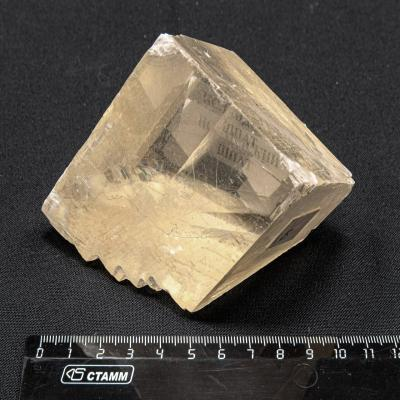mineralogy: (41, 34, 355, 314)
